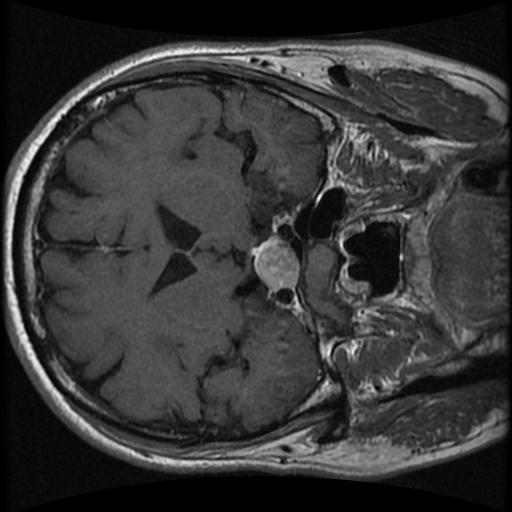pituitary tumour: (253, 237, 299, 290)
